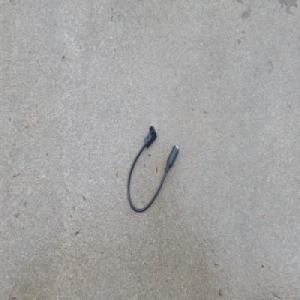Wire: (126, 123, 179, 214)
